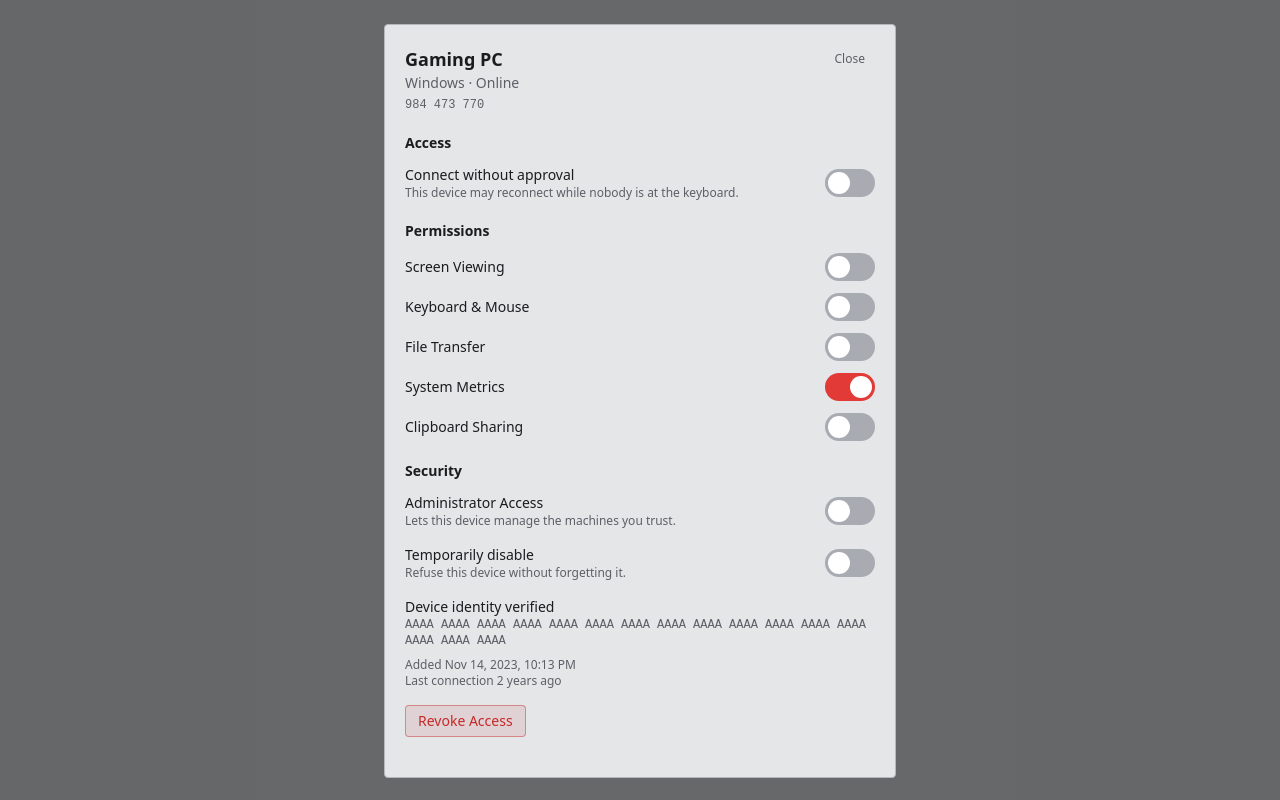
Test: DeviceDetail › never grants administrator without an explicit confirmation
The width and height of the screenshot is (1280, 800).
Click the switch named "Administrator Access" at coordinates (850, 511), box [825,497,875,525]
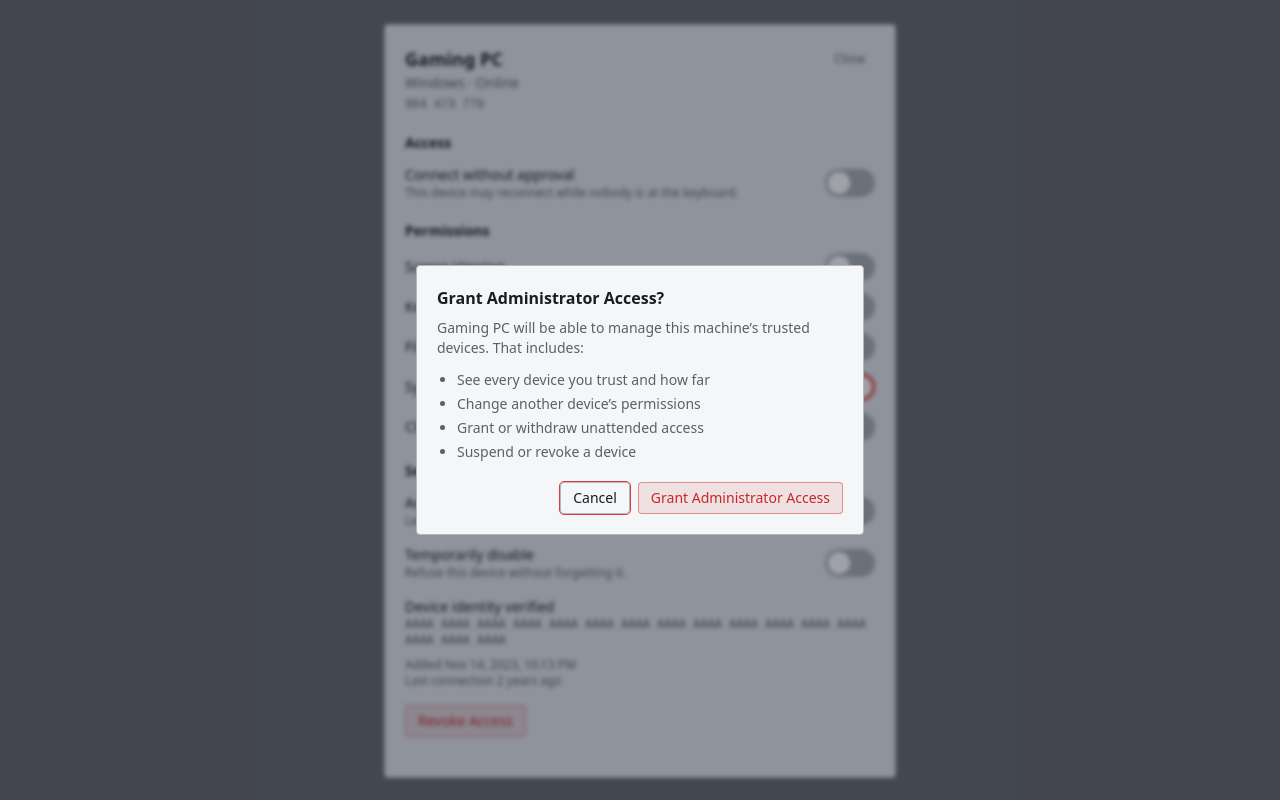
Result: the dialog "Grant Administrator Access?" is shown at [416,265,864,535]
